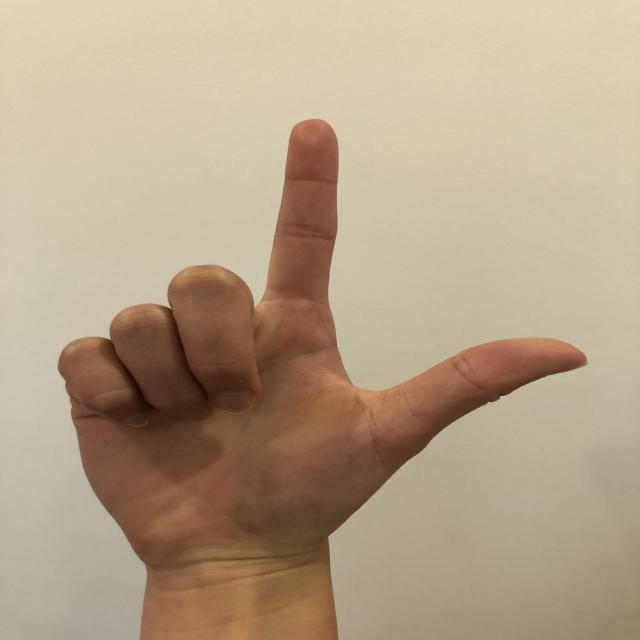L: (50, 111, 592, 564)
